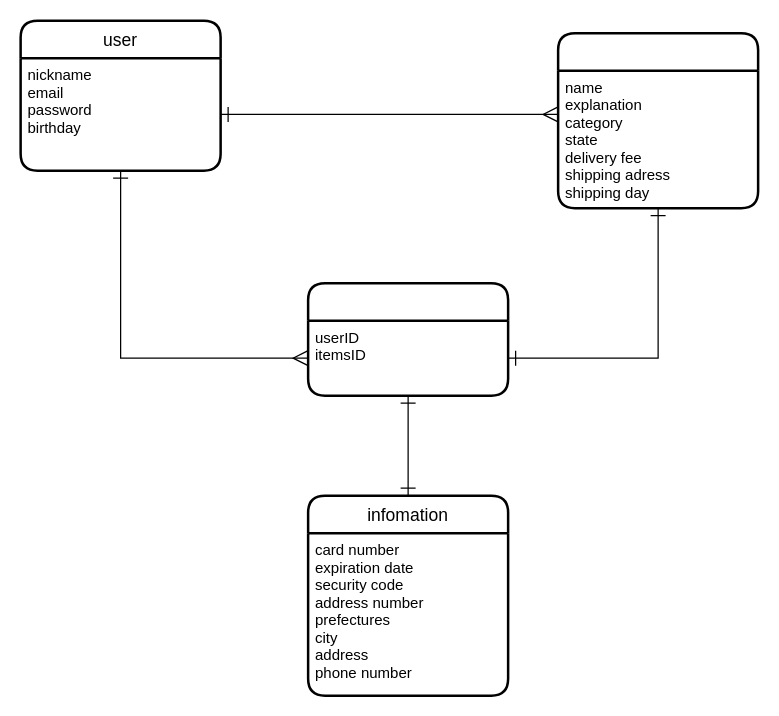
The diagram is 779 pixels wide and 716 high, and some of its shapes have lost their labels. Each missing label, with the box of its shape:
buyer: (306, 281, 509, 396)
items: (556, 31, 759, 209)
